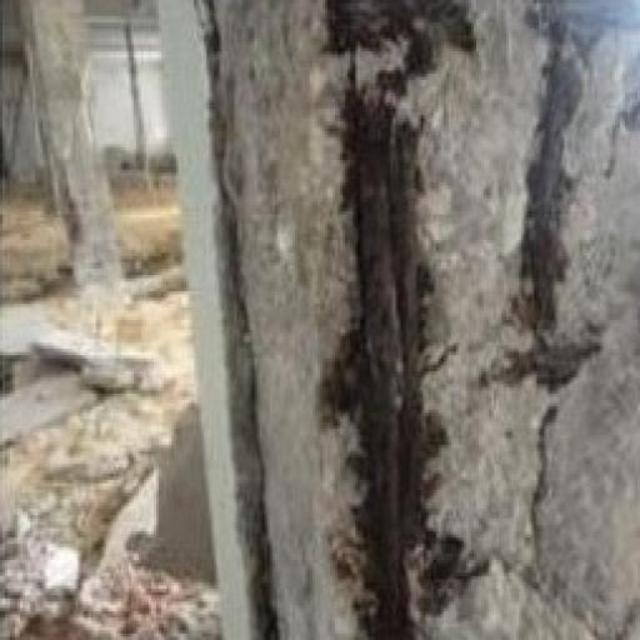D0w0: (198, 0, 639, 637)
